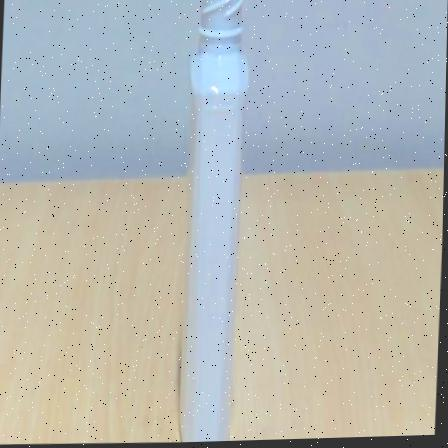bottle: (178, 0, 248, 442)
